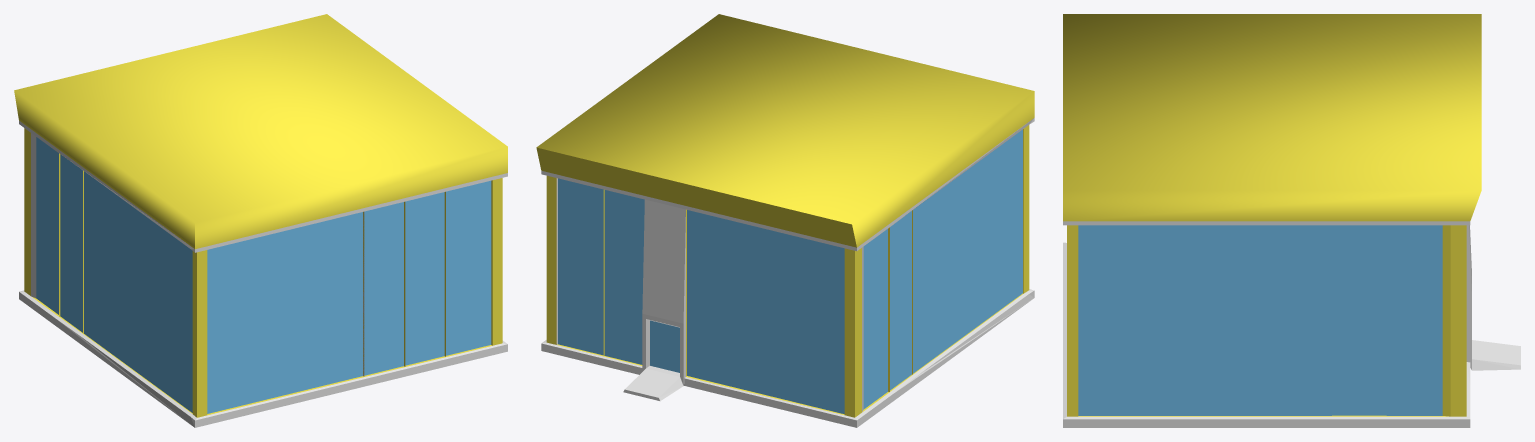
The model's file is Shop8x8x5Yellow.fbx.
3 renders of one model, left to right at view 1: azimuth 30°, elevation 25°; view 2: azimuth 150°, elevation 25°; view 3: azimuth 270°, elevation 25°, orthographic. The views are drawn at different scales.
Visible parts, largest first — view 1: Shop.001; view 2: Shop.001; view 3: Shop.001.
Boxes of the visible parts, <box> form: Shop.001: <box>14,14,507,427</box>; Shop.001: <box>536,14,1034,427</box>; Shop.001: <box>1063,14,1520,427</box>.
Size of the model in its own units: 7.96 by 4.99 by 8.72.
1 material, 1 textured.
